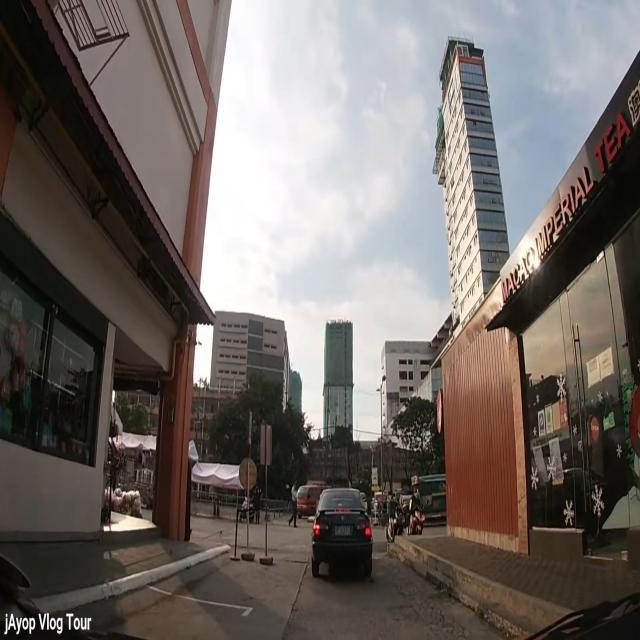car: (310, 486, 373, 580)
jeepney: (398, 474, 447, 524)
motorcycle: (386, 498, 406, 542), (408, 497, 426, 534), (239, 494, 254, 524)
